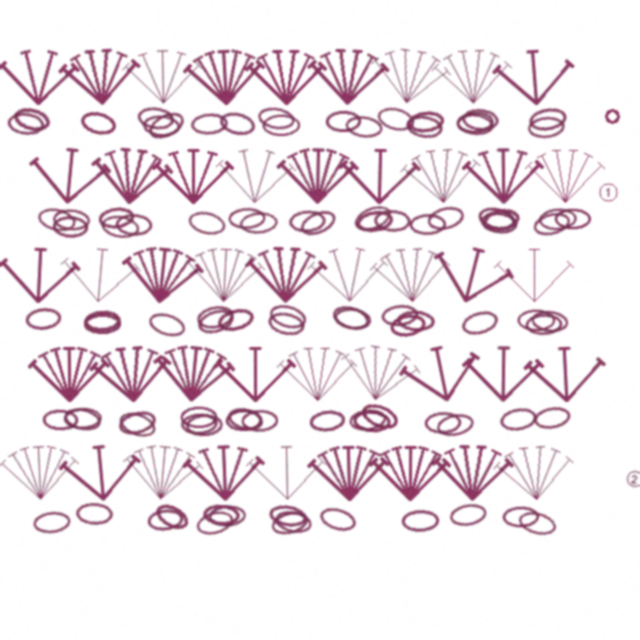chain: (145, 107, 188, 143), (151, 499, 193, 535), (351, 201, 394, 235), (358, 399, 401, 433), (297, 206, 339, 240), (116, 408, 159, 441), (146, 309, 188, 341), (195, 305, 237, 337), (267, 301, 309, 332), (459, 307, 501, 338), (116, 407, 158, 438), (194, 507, 236, 538), (516, 508, 558, 539), (330, 302, 371, 333), (317, 504, 358, 535), (375, 104, 417, 134), (186, 208, 228, 238), (531, 209, 573, 239), (269, 508, 311, 538), (11, 104, 52, 134), (78, 108, 119, 138), (425, 203, 466, 233), (215, 305, 256, 335), (225, 404, 266, 434), (217, 109, 258, 138), (36, 205, 77, 234), (476, 204, 517, 233), (62, 405, 103, 434), (266, 309, 306, 338), (527, 105, 568, 133), (435, 411, 476, 439), (498, 405, 539, 433), (267, 502, 308, 530), (195, 303, 235, 331), (388, 311, 428, 339), (532, 404, 572, 432), (273, 508, 313, 536), (448, 501, 488, 529), (256, 105, 296, 132), (404, 113, 444, 140), (100, 213, 140, 240), (481, 206, 521, 233), (355, 208, 394, 235), (344, 114, 384, 140), (479, 210, 519, 236), (136, 105, 175, 131), (406, 109, 445, 135), (97, 205, 136, 231), (333, 306, 372, 332), (308, 408, 347, 434), (348, 407, 387, 433), (146, 507, 185, 533), (455, 112, 495, 137), (380, 303, 420, 328), (32, 510, 72, 535), (6, 111, 45, 136), (24, 306, 63, 331), (530, 309, 569, 334), (456, 110, 494, 135), (461, 107, 499, 132), (527, 115, 565, 140), (142, 114, 181, 138), (190, 112, 229, 136), (52, 208, 91, 232), (239, 211, 278, 235), (538, 207, 577, 231), (396, 309, 435, 333), (352, 409, 391, 433), (208, 504, 247, 528), (288, 209, 326, 233), (83, 309, 121, 333), (180, 412, 218, 436), (185, 413, 223, 437), (202, 503, 240, 527), (63, 407, 102, 430), (75, 502, 114, 525), (115, 213, 153, 236), (228, 207, 266, 230), (373, 209, 411, 232), (525, 313, 563, 336), (424, 411, 462, 434), (401, 509, 439, 532), (52, 215, 89, 238), (409, 213, 446, 236), (241, 409, 278, 432), (262, 114, 300, 136), (83, 313, 121, 335), (517, 309, 555, 331), (180, 406, 218, 428), (325, 110, 362, 132), (554, 208, 591, 230), (42, 409, 79, 431), (225, 409, 262, 431), (502, 506, 539, 528)
fan: (425, 234, 520, 314), (395, 334, 488, 411), (334, 335, 426, 410), (365, 39, 456, 112), (118, 239, 207, 309), (88, 140, 176, 210), (26, 140, 114, 209), (150, 338, 238, 407), (57, 437, 145, 506), (119, 437, 207, 506), (491, 42, 578, 110), (398, 141, 485, 209), (57, 240, 144, 308), (88, 339, 175, 407), (491, 438, 578, 506), (57, 42, 144, 109), (182, 43, 268, 109), (213, 142, 299, 208), (182, 241, 268, 307), (368, 241, 454, 307), (523, 340, 608, 406), (306, 43, 391, 108), (430, 43, 515, 108), (244, 241, 329, 306), (306, 241, 391, 306), (182, 439, 267, 504), (0, 241, 82, 307), (338, 143, 422, 207), (307, 440, 391, 504), (0, 439, 82, 504), (121, 44, 205, 107), (276, 143, 360, 206), (245, 440, 329, 503), (431, 440, 515, 503), (462, 143, 545, 206), (462, 341, 545, 404), (0, 44, 81, 108), (245, 45, 328, 107), (152, 144, 235, 206), (524, 144, 607, 206), (493, 243, 576, 305), (28, 342, 111, 404), (214, 342, 297, 404), (276, 342, 359, 404), (369, 441, 452, 503)
noise: (597, 181, 619, 203), (603, 107, 622, 126), (624, 468, 640, 489)
